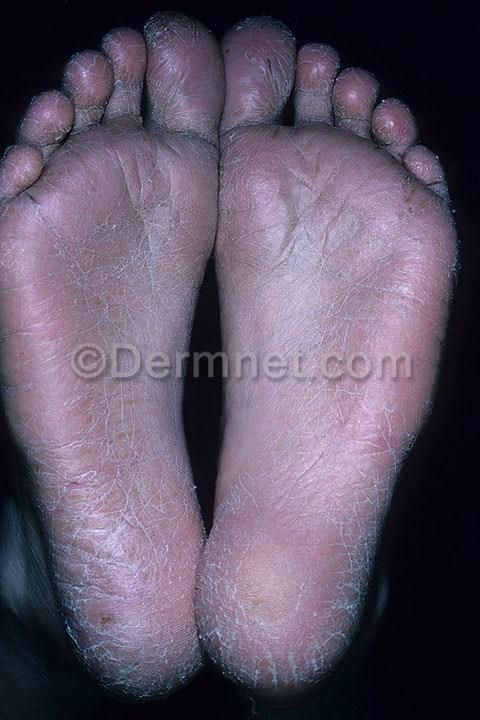Eczema: (55, 175, 201, 299), (206, 535, 347, 657), (331, 150, 426, 272), (74, 558, 178, 663), (232, 135, 313, 227), (37, 435, 116, 523), (149, 17, 215, 95), (66, 50, 120, 112)
